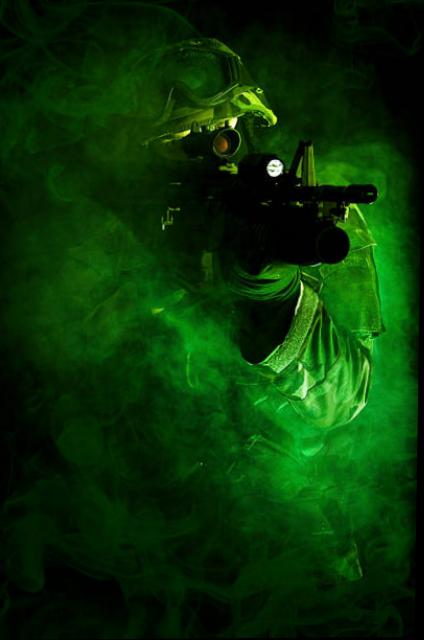other: (104, 66, 381, 431)
